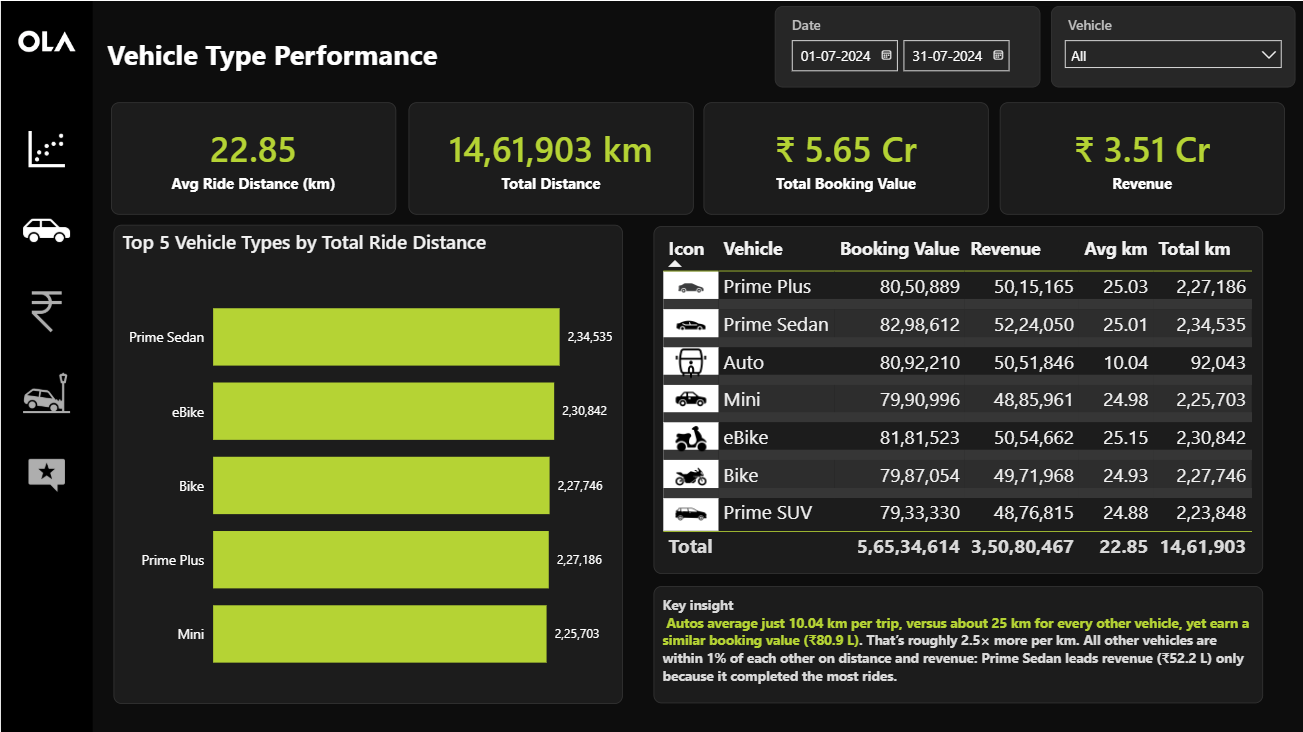

The dashboard page shown, as its layout file describes it:
{"tool":"powerbi","page":{"name":"Vehicle Type","canvas":[1280,720],"ordinal":1},"visuals":[{"type":"group","id":"g1","title":"Group 1","box":[0,0,90,720],"z":0},{"type":"slicer","fields":{"Values":["ola_rides.Ride_Date"]},"box":[759.6,5.1,260.4,80],"z":1000},{"type":"textbox","box":[100,30,600,45],"z":2001},{"type":"cardVisual","fields":{"Data":["_Measures.Avg Distance km"]},"box":[108.5,99.6,280,110],"z":2002},{"type":"cardVisual","fields":{"Data":["_Measures.Total Distance Label"]},"box":[399.6,99.6,280,110],"z":2003},{"type":"cardVisual","fields":{"Data":["_Measures.Total Booking Value Cr"]},"box":[689.4,99.6,280,110],"z":2004},{"type":"cardVisual","fields":{"Data":["_Measures.Revenue Cr"]},"box":[980.5,99.6,280,110],"z":2005},{"type":"slicer","fields":{"Values":["ola_rides.Vehicle_Type"]},"box":[1030.3,5.1,240,80],"z":2006},{"type":"clusteredBarChart","title":"Top 5 Vehicle Types by Total Ride Distance","fields":{"Category":["ola_rides.Vehicle_Type"],"Y":["_Measures.Total Distance km"]},"box":[110,220,500,470],"z":2007},{"type":"tableEx","fields":{"Values":["vehicle_icons.Icon_URL","ola_rides.Vehicle_Type","_Measures.Total Booking Value","_Measures.Revenue","_Measures.Avg Distance km","_Measures.Total Distance km"]},"box":[640.2,220.3,598.7,341.6],"z":2008},{"type":"textbox","box":[640.2,574.7,598.7,114.9],"z":2009},{"type":"shape","box":[0,0,90,720],"z":5500,"group":"g1"},{"type":"image","title":"logo","box":[10,25,70,30],"z":5750,"group":"g1"},{"type":"image","title":"nav_overall","box":[20,120,50,50],"z":5875,"group":"g1"},{"type":"image","title":"nav_vehicle","box":[20,200,50,50],"z":5890,"group":"g1"},{"type":"image","title":"nav_revenue","box":[20,280,50,50],"z":5906,"group":"g1"},{"type":"image","title":"nav_cancel","box":[20,360,50,50],"z":5968,"group":"g1"},{"type":"image","title":"nav_ratings","box":[20,440,50,50],"z":6000,"group":"g1"}]}

Visuals, with their boxes in screenshot pixels (x1, y1, x2, y2), scaled from the page's 1280x720 canvas onto the 1303x732 screenshot:
"Group 1" group: crop(0, 0, 92, 731)
slicer - ola_rides.Ride_Date: crop(773, 5, 1038, 87)
textbox: crop(102, 30, 713, 76)
cardVisual - _Measures.Avg Distance km: crop(110, 101, 395, 213)
cardVisual - _Measures.Total Distance Label: crop(407, 101, 692, 213)
cardVisual - _Measures.Total Booking Value Cr: crop(702, 101, 987, 213)
cardVisual - _Measures.Revenue Cr: crop(998, 101, 1283, 213)
slicer - ola_rides.Vehicle_Type: crop(1049, 5, 1293, 87)
"Top 5 Vehicle Types by Total Ride Distance" clusteredBarChart: crop(112, 224, 621, 702)
tableEx - vehicle_icons.Icon_URL x ola_rides.Vehicle_Type: crop(652, 224, 1261, 571)
textbox: crop(652, 584, 1261, 701)
shape: crop(0, 0, 92, 731)
"logo" image: crop(10, 25, 81, 56)
"nav_overall" image: crop(20, 122, 71, 173)
"nav_vehicle" image: crop(20, 203, 71, 254)
"nav_revenue" image: crop(20, 285, 71, 336)
"nav_cancel" image: crop(20, 366, 71, 417)
"nav_ratings" image: crop(20, 447, 71, 498)
